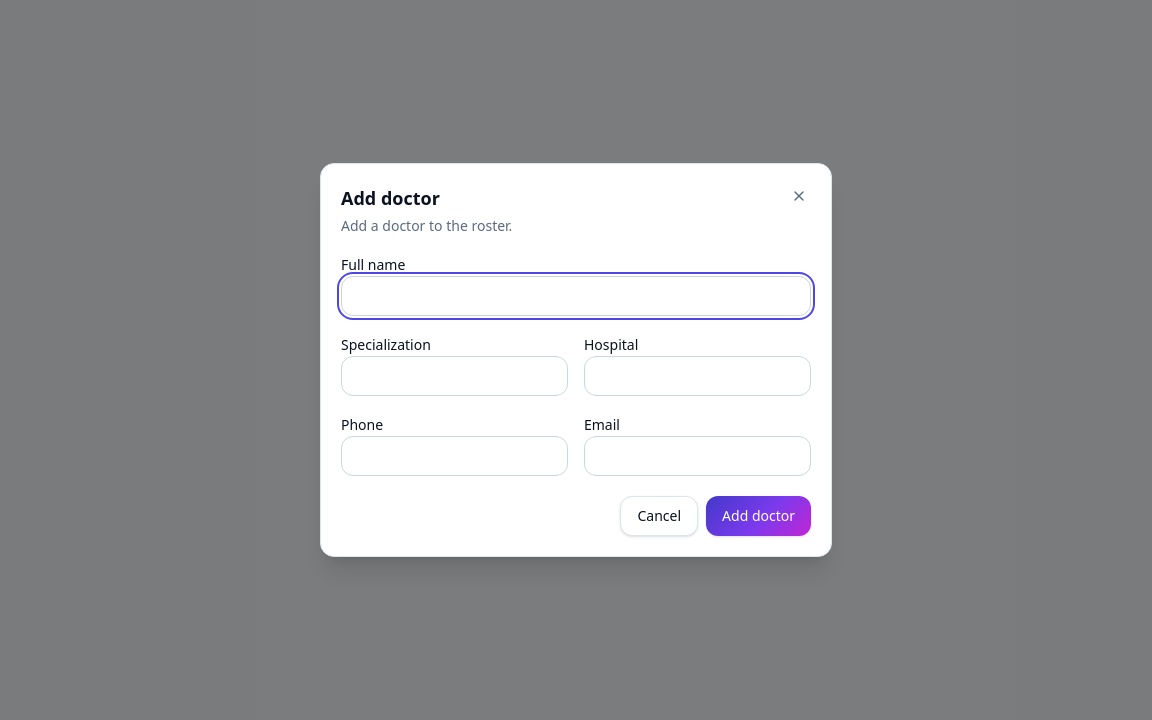
Test: doctor form › falls back to the banner for a field error it cannot place
This screenshot has width=1152, height=720.
Type "Alice Nguyen" into the field labelled "Full name" at x=576, y=296, box [341,276,811,316]
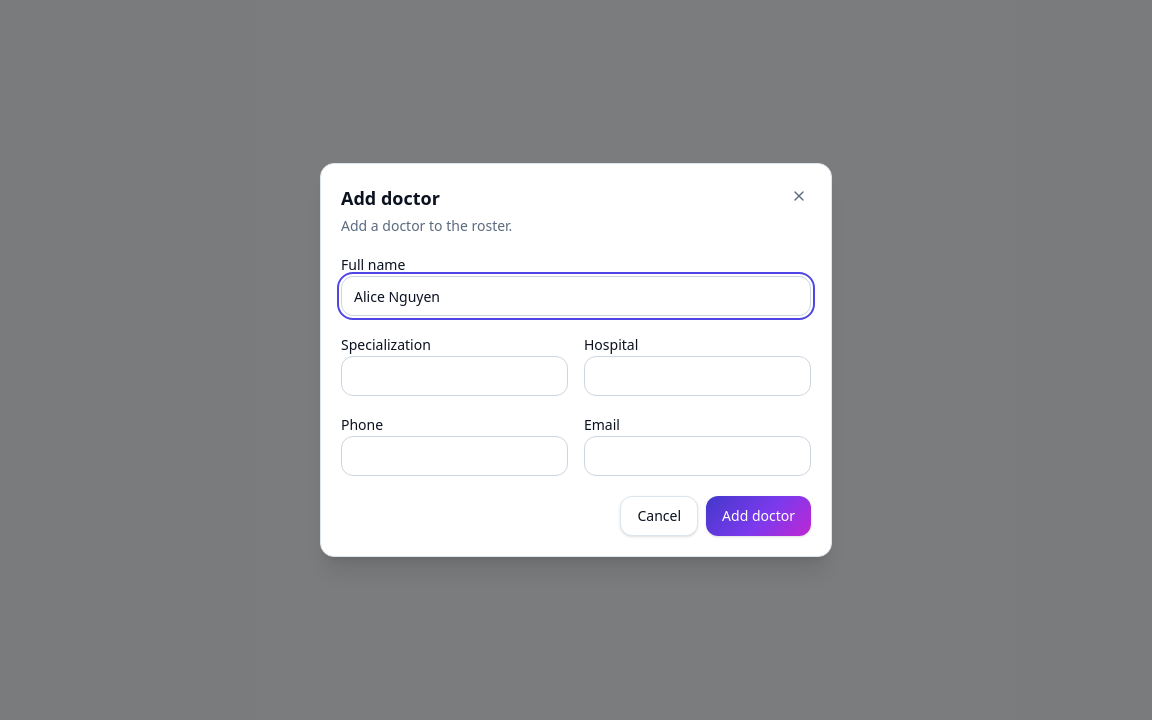
Type "Cardiology" into the field labelled "Specialization" at x=454, y=376, box [341,356,568,396]
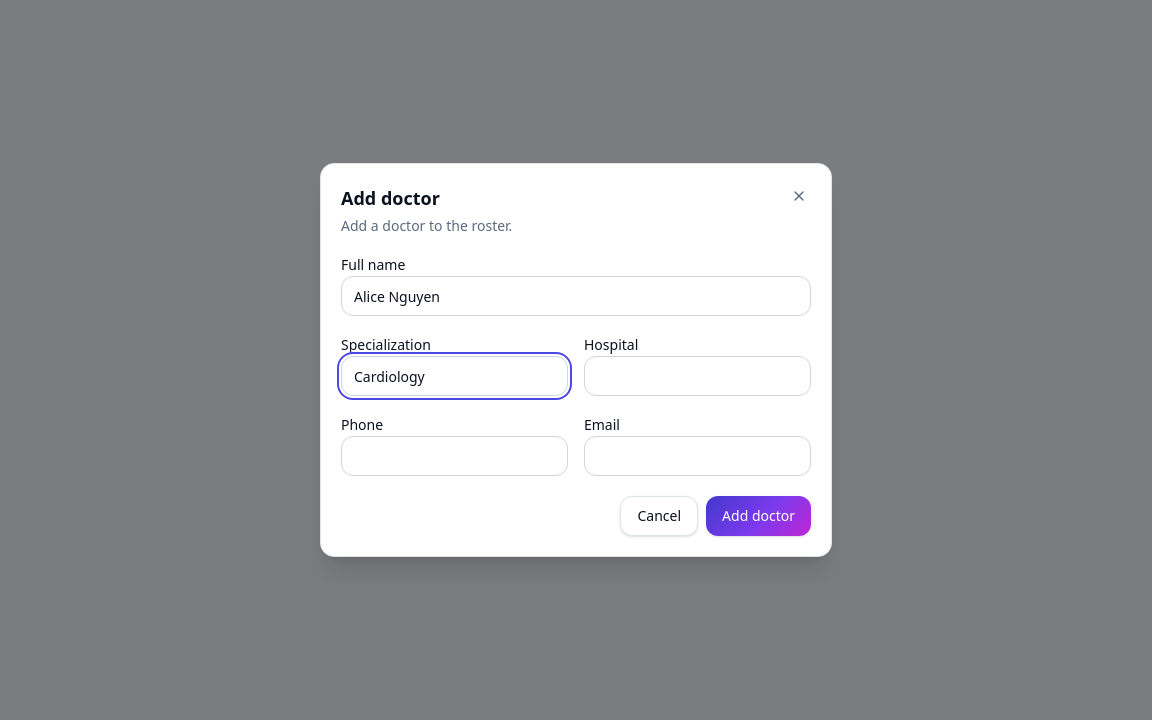
Type "St. Mary General" into the field labelled "Hospital" at x=698, y=376, box [584,356,811,396]
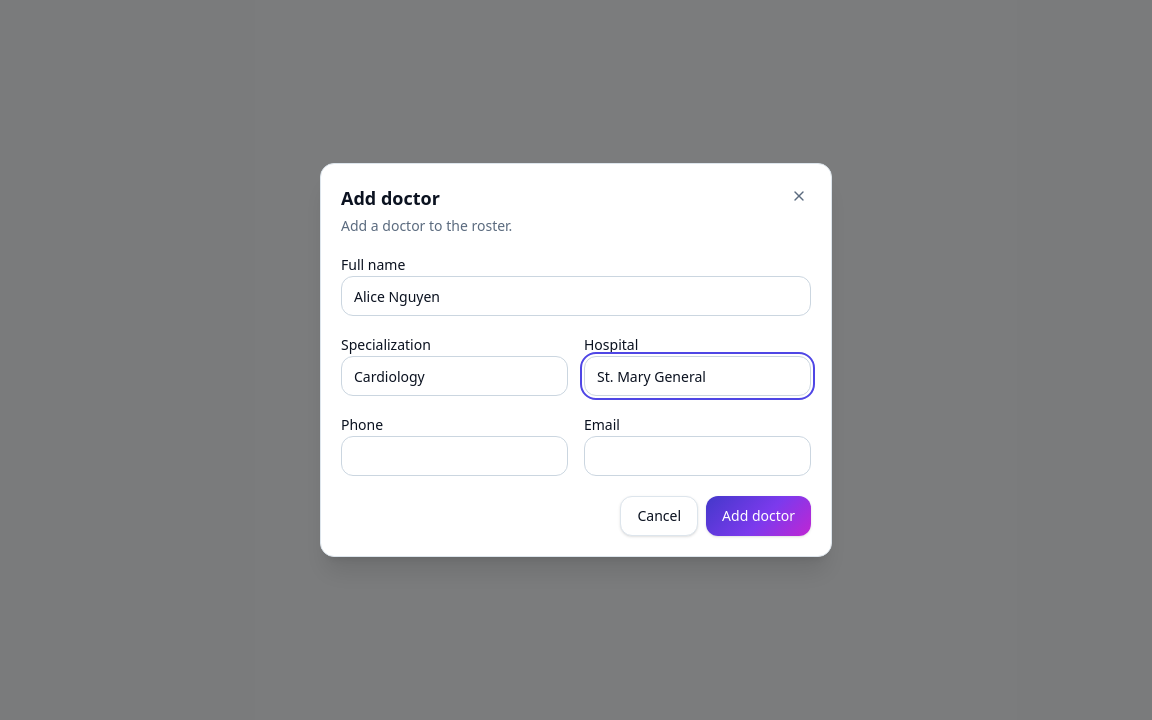
Type "+1-555-0100" into the field labelled "Phone" at x=454, y=456, box [341,436,568,476]
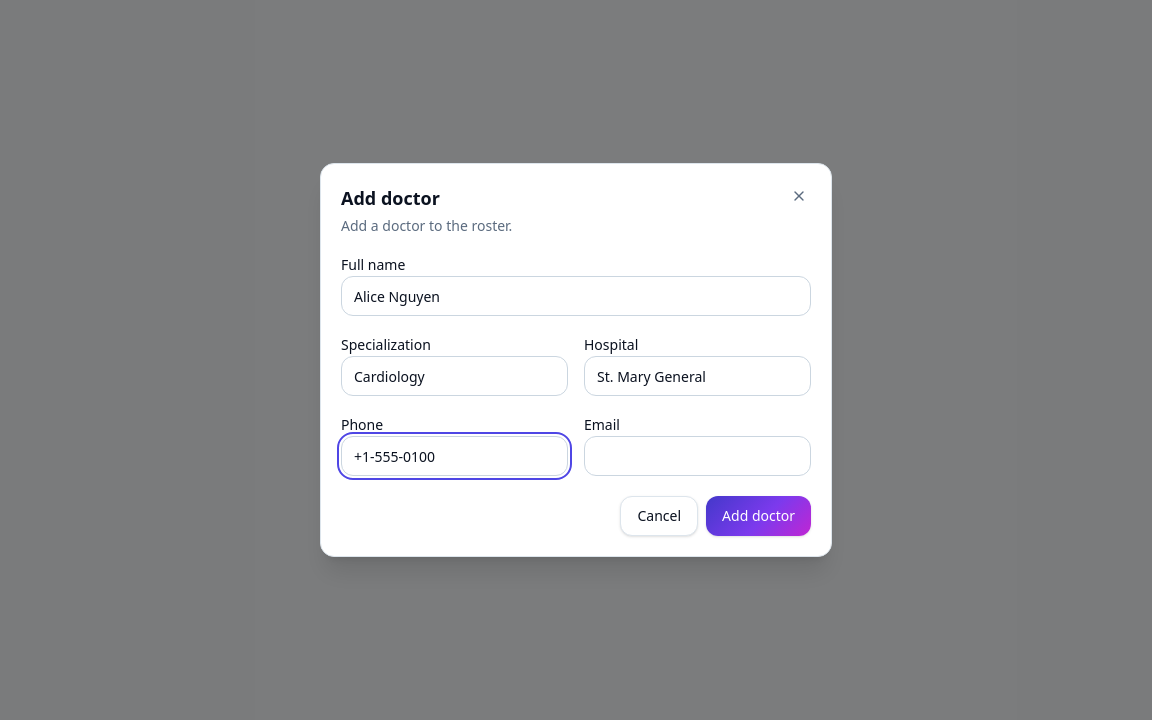
Type "alice@hospital.test" into the field labelled "Email" at x=698, y=456, box [584,436,811,476]
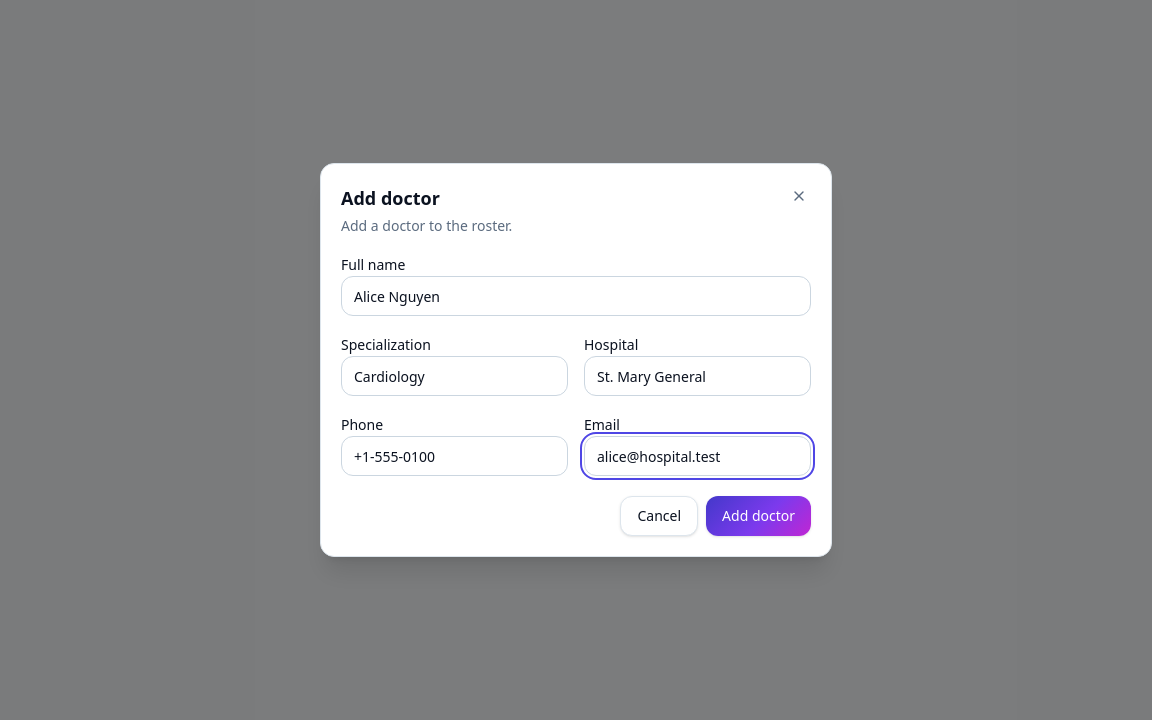
Click the button "Add doctor" at x=759, y=516, box [706,496,811,536]
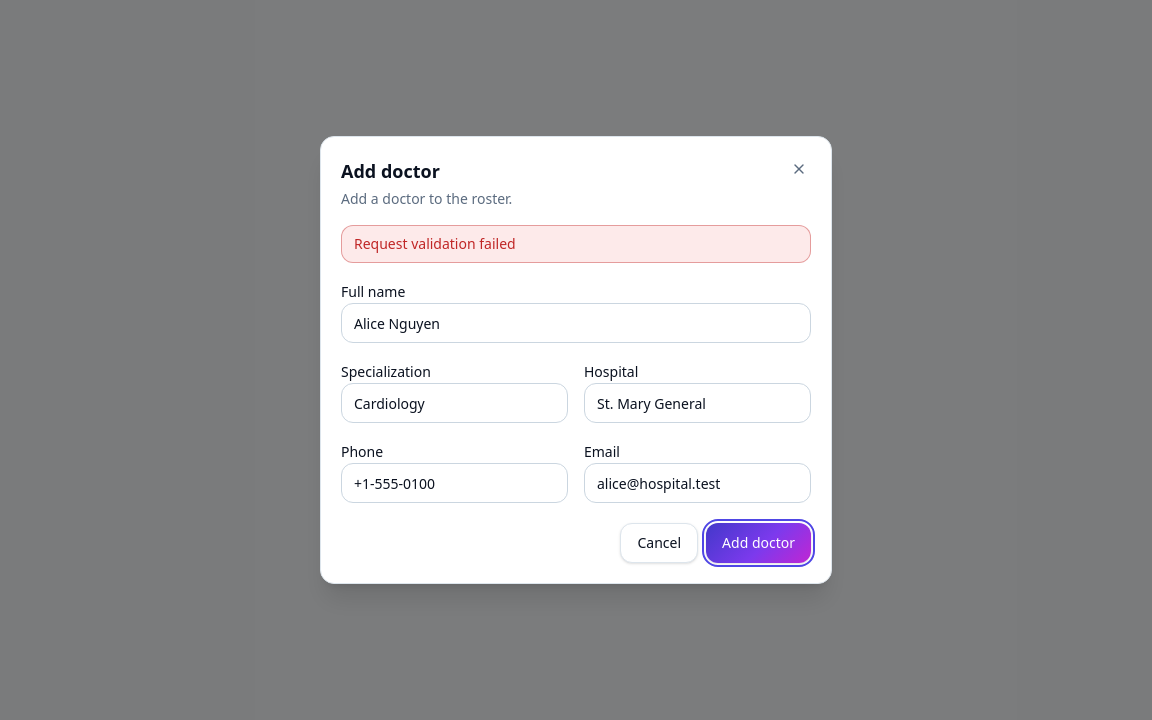
Now the message reads "Request validation failed", box [354,234,516,253]
